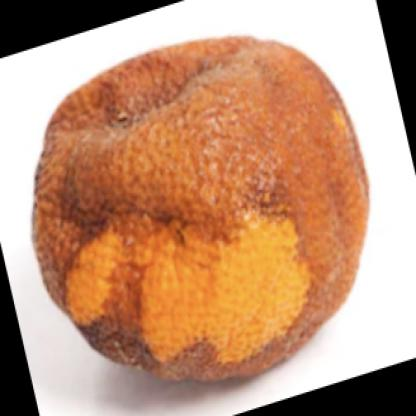rotten_orange: (20, 25, 373, 383)
